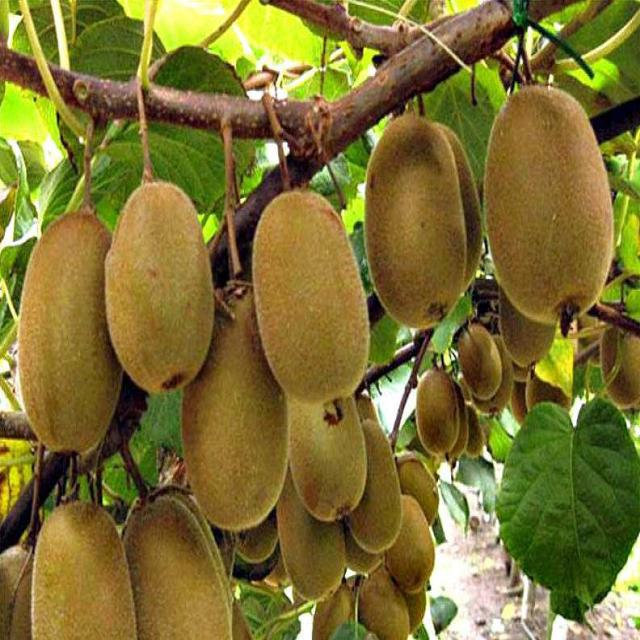kiwi: (481, 75, 619, 339), (176, 274, 294, 529), (248, 180, 379, 405), (16, 206, 125, 464), (100, 177, 221, 398), (362, 113, 471, 335), (114, 479, 244, 640), (27, 490, 141, 640), (286, 382, 373, 530), (271, 477, 350, 607), (341, 414, 407, 556), (1, 518, 54, 640), (499, 280, 563, 378), (385, 494, 439, 599), (411, 365, 463, 458), (596, 312, 640, 420), (454, 321, 507, 407), (393, 451, 445, 536), (310, 572, 369, 640), (358, 567, 412, 640), (521, 371, 574, 422)
